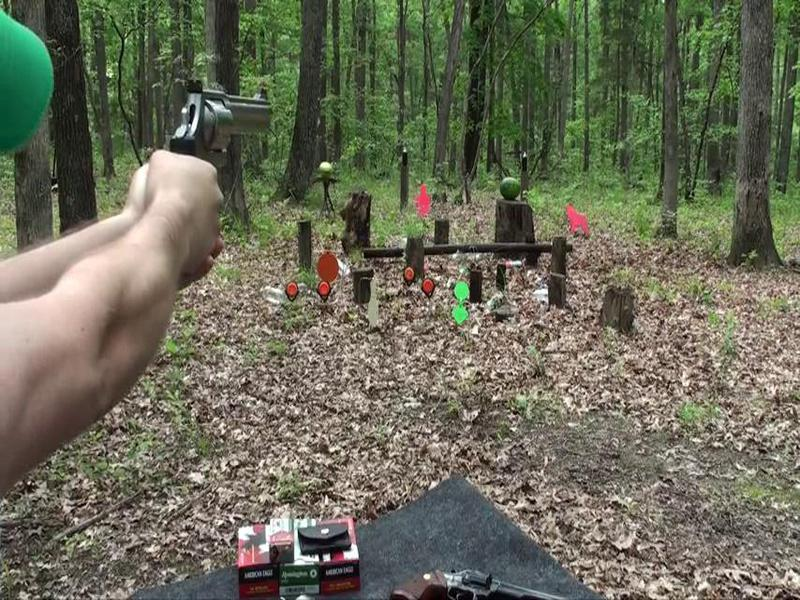Revolver: (127, 61, 300, 189)
